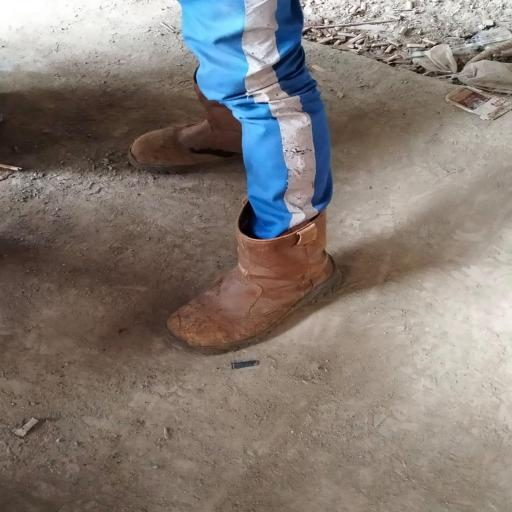safety_shoe: (155, 206, 342, 354), (126, 92, 267, 178)
